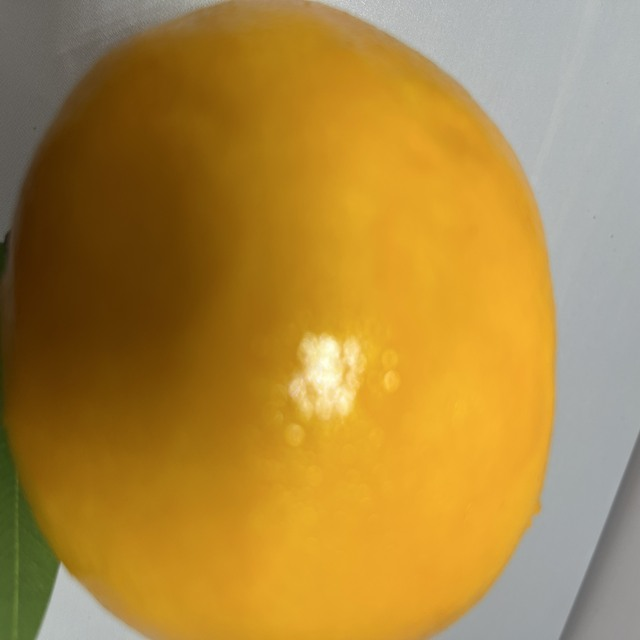Cam vang: (0, 5, 560, 640)
